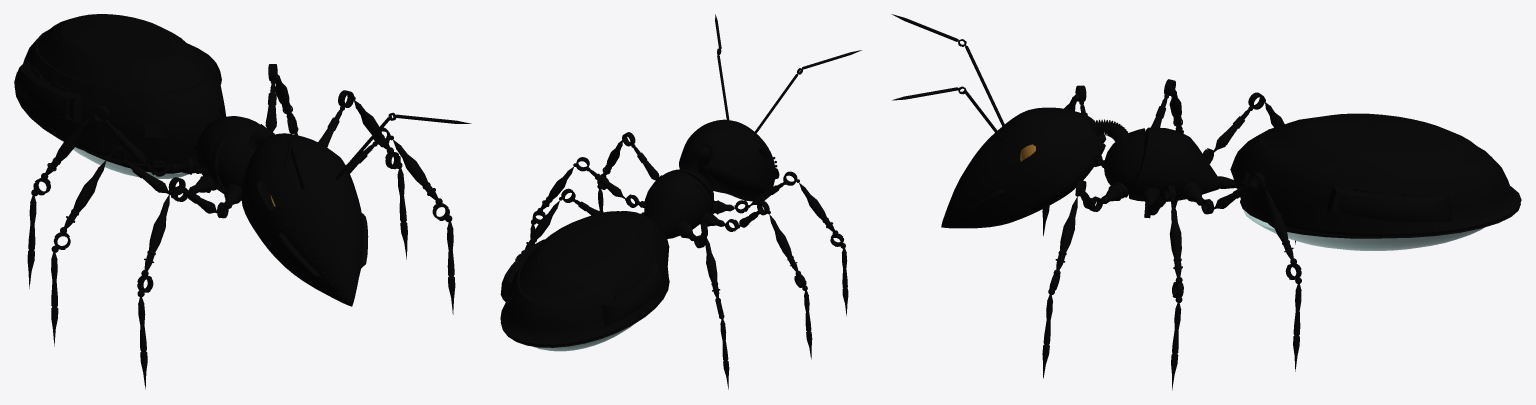
Rendered from 13.04_ant (1).fbx.
The picture shows the model from 3 angles, left to right: view 1: azimuth 30°, elevation 25°; view 2: azimuth 150°, elevation 25°; view 3: azimuth 270°, elevation 25°; orthographic projection. The views are drawn at different scales.
Visible parts, largest first — view 1: _Sphere418, _Sphere420, _ChamferBox003, _Tube169 (×2), _Tube167 (×2), _Tube183, _Tube162, _glass002, _Tube176, _Tube174, _Tube160, _Tube181; view 2: _Sphere418, _Sphere420, _ChamferBox003, _Tube169 (×2), _Tube176, _glass002, _Tube126, _Tube183, _Hose006, _Tube174, _Tube167; view 3: _Sphere418, _Sphere420, _ChamferBox003, _glass002, _Tube126, _Tube162, _Tube169, _Hose006.
Part boxes in pixels (bbox=[...]): _Sphere418: bbox=[14, 14, 226, 173]; _Sphere420: bbox=[241, 133, 368, 306]; _ChamferBox003: bbox=[196, 116, 267, 200]; _Tube169 (×2): bbox=[64, 100, 390, 228]; _Tube167 (×2): bbox=[51, 168, 407, 346]; _Tube183: bbox=[144, 194, 169, 270]; _Tube162: bbox=[393, 139, 438, 200]; _glass002: bbox=[61, 140, 188, 178]; _Tube176: bbox=[45, 117, 89, 175]; _Tube174: bbox=[27, 195, 36, 288]; _Tube160: bbox=[447, 222, 455, 314]; _Tube181: bbox=[138, 297, 147, 389]; _Sphere418: bbox=[500, 211, 669, 347]; _Sphere420: bbox=[679, 119, 779, 201]; _ChamferBox003: bbox=[644, 169, 713, 238]; _Tube169 (×2): bbox=[540, 167, 798, 271]; _Tube176: bbox=[705, 236, 719, 297]; _glass002: bbox=[533, 324, 633, 351]; _Tube126: bbox=[524, 200, 559, 251]; _Tube183: bbox=[799, 183, 834, 231]; _Hose006: bbox=[686, 146, 710, 172]; _Tube174: bbox=[720, 319, 729, 389]; _Tube167: bbox=[804, 290, 812, 359]; _Sphere418: bbox=[1230, 113, 1521, 238]; _Sphere420: bbox=[941, 107, 1106, 228]; _ChamferBox003: bbox=[1103, 127, 1218, 201]; _glass002: bbox=[1243, 210, 1484, 250]; _Tube126: bbox=[1265, 188, 1293, 259]; _Tube162: bbox=[1056, 197, 1077, 270]; _Tube169: bbox=[1169, 202, 1181, 277]; _Hose006: bbox=[1090, 119, 1129, 144].
Bounding box in the file's own units: 99.38 × 70.87 × 161.
